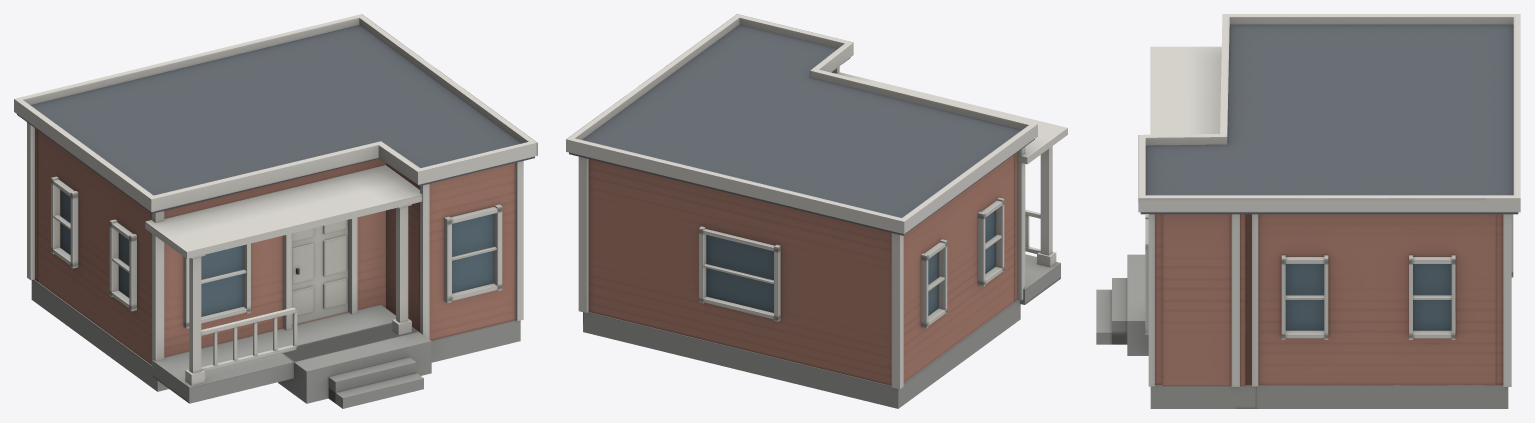
The model's file is House_04_Recessed_Veranda.fbx.
3 views of the same model, side by side, from view 1: azimuth 30°, elevation 25°; view 2: azimuth 150°, elevation 25°; view 3: azimuth 270°, elevation 25° (orthographic). The views are drawn at different scales.
Visible parts, largest first — view 1: House_04_Recessed_Veranda; view 2: House_04_Recessed_Veranda; view 3: House_04_Recessed_Veranda.
Boxes of the visible parts, <box> form: House_04_Recessed_Veranda: <box>14,14,537,408</box>; House_04_Recessed_Veranda: <box>566,14,1067,408</box>; House_04_Recessed_Veranda: <box>1096,14,1520,408</box>.
Size of the model in its own units: 6.75 by 3.7 by 6.57.
1 material, 1 textured.
